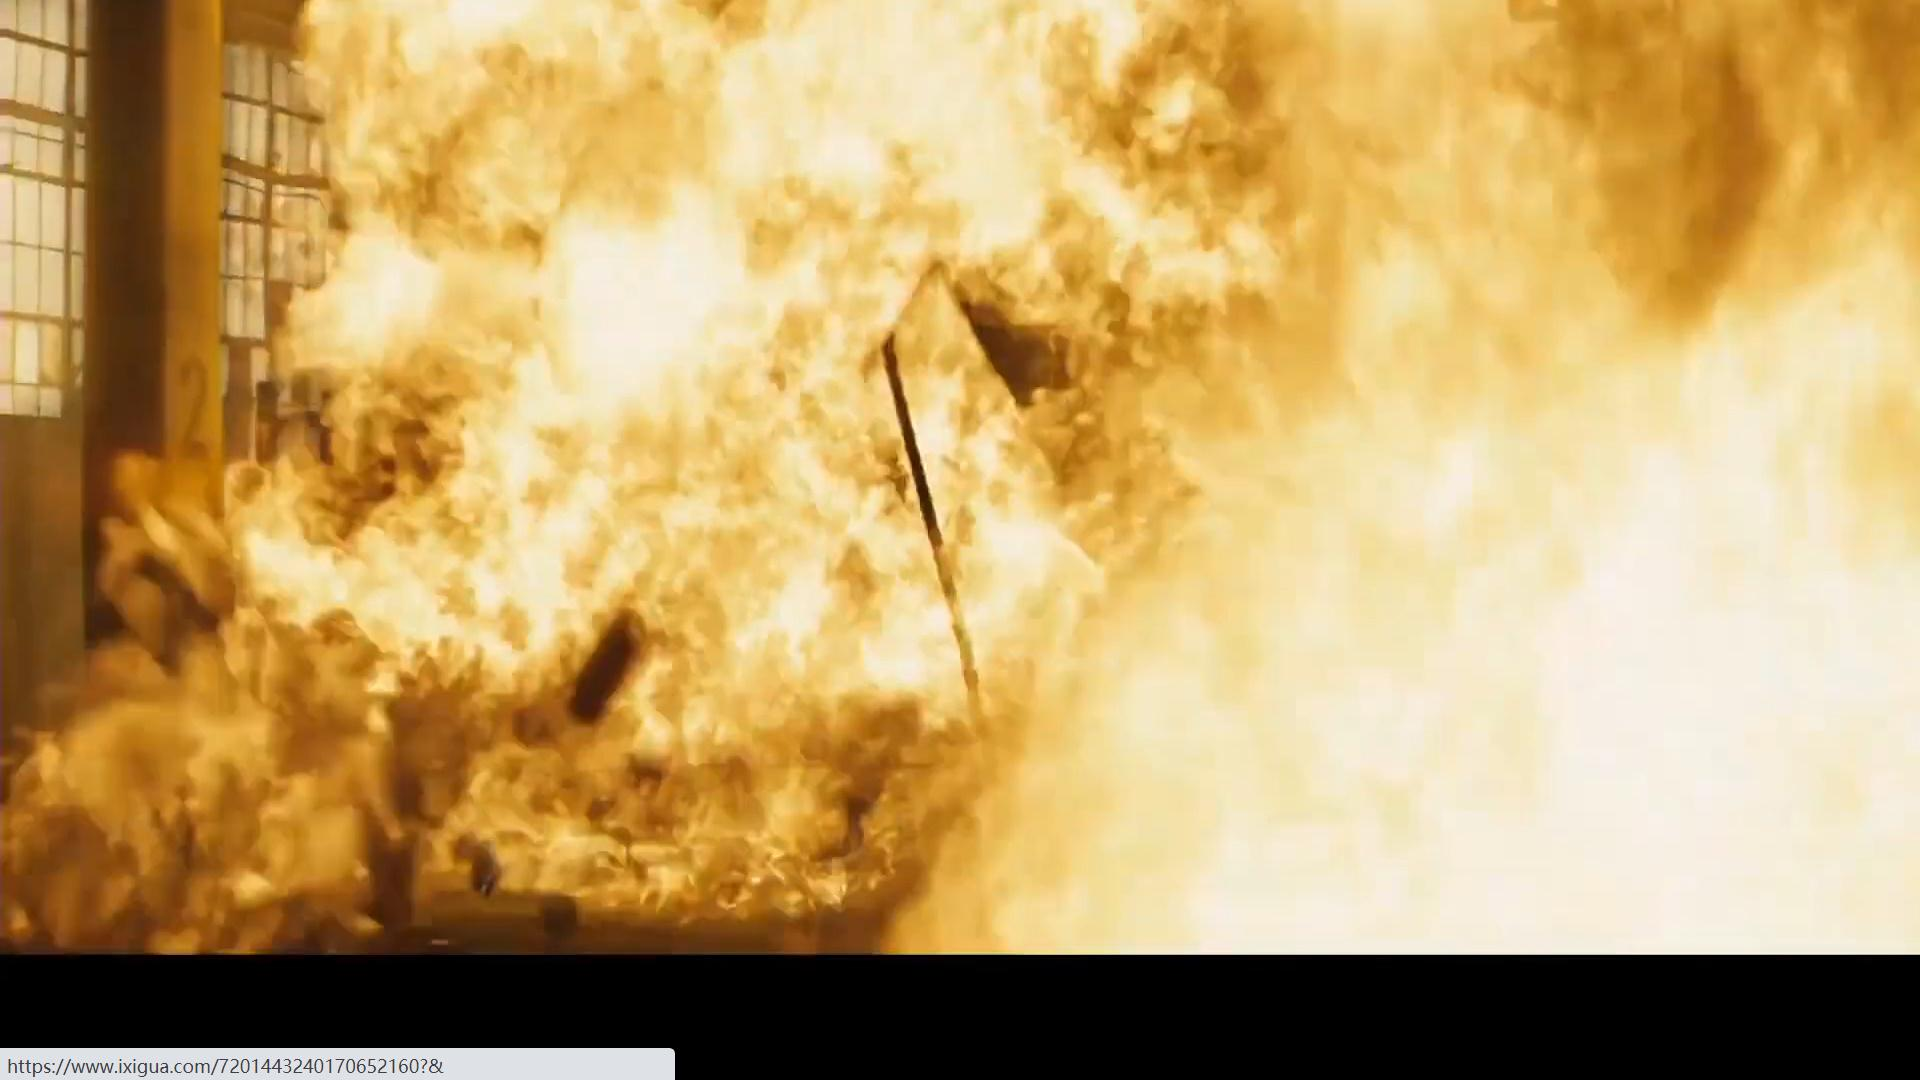fire: (1, 5, 1920, 952)
